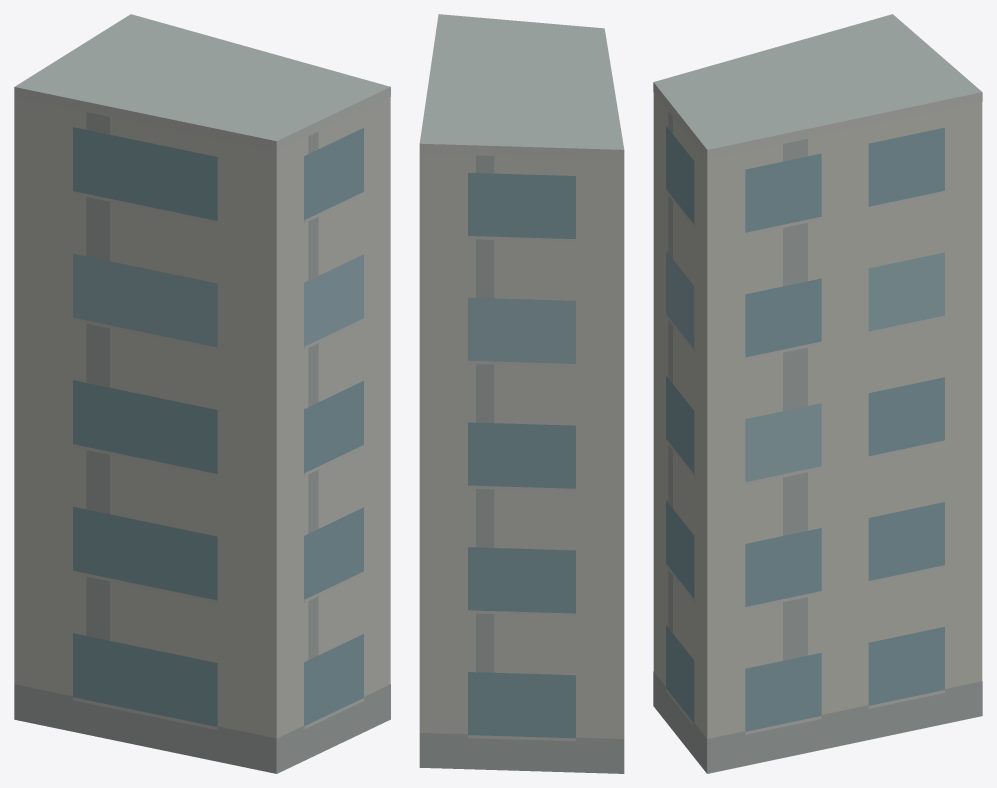
Rendered from survey-upis-32839756.glb.
3 views of the same model, side by side, from view 1: azimuth 30°, elevation 25°; view 2: azimuth 150°, elevation 25°; view 3: azimuth 270°, elevation 25° (orthographic).
Parts seen in each view (by area): view 1: survey-upis-32839756.tmp; view 2: survey-upis-32839756.tmp; view 3: survey-upis-32839756.tmp.
Part boxes in pixels (bbox=[...]): survey-upis-32839756.tmp: bbox=[14, 14, 390, 773]; survey-upis-32839756.tmp: bbox=[419, 14, 624, 773]; survey-upis-32839756.tmp: bbox=[653, 14, 982, 773].
Size of the model in its own units: 7.08 by 15.14 by 7.24.
